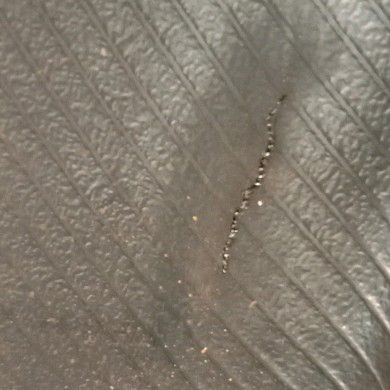CBU: (208, 76, 296, 286)
